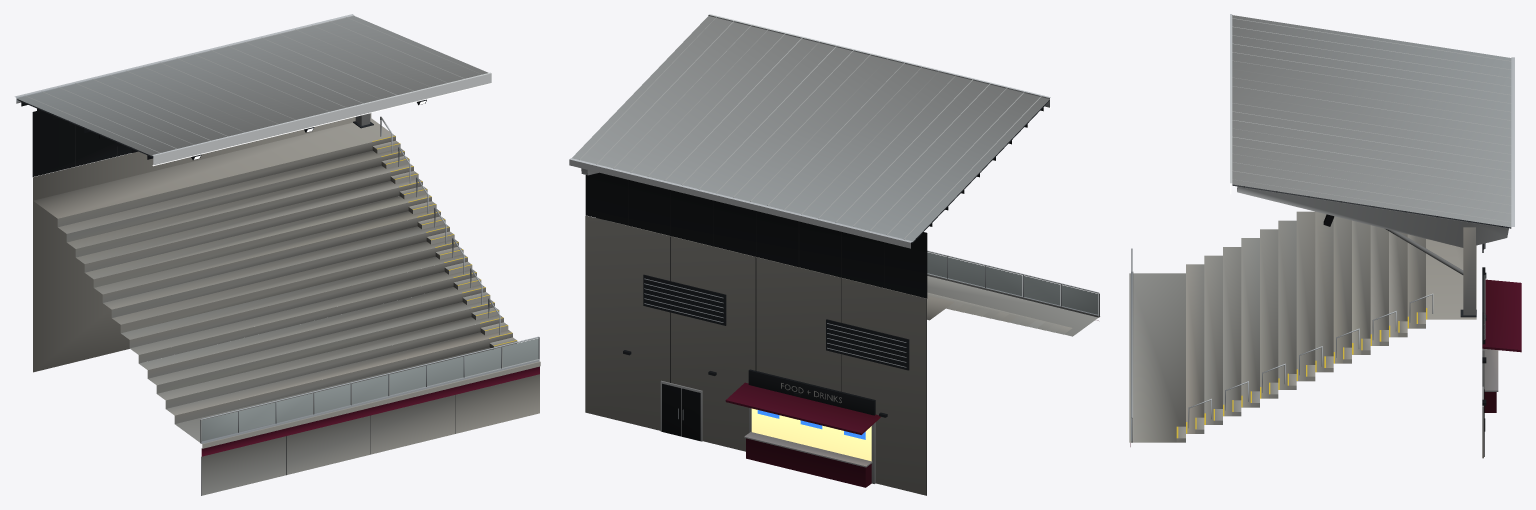
The model's file is stand_main_kit_7.glb.
3 renders of one model, left to right at view 1: azimuth 30°, elevation 25°; view 2: azimuth 150°, elevation 25°; view 3: azimuth 270°, elevation 25°, orthographic. The views are drawn at different scales.
Parts seen in each view (by area): view 1: kit_7; view 2: kit_7; view 3: kit_7.
Boxes of the visible parts, x1=… form: kit_7: x1=14, y1=14, x2=540, y2=495; kit_7: x1=569, y1=14, x2=1100, y2=495; kit_7: x1=1129, y1=14, x2=1521, y2=458.
Size of the model in its own units: 17.42 by 14.95 by 17.01.
